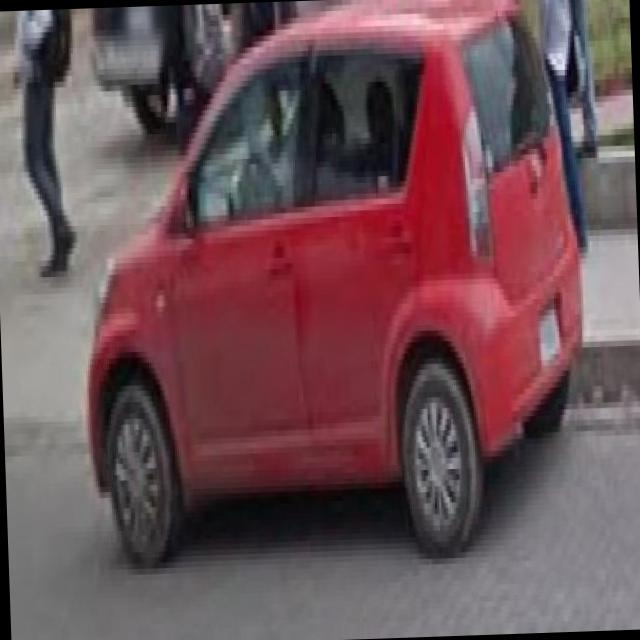car: (74, 11, 592, 580)
